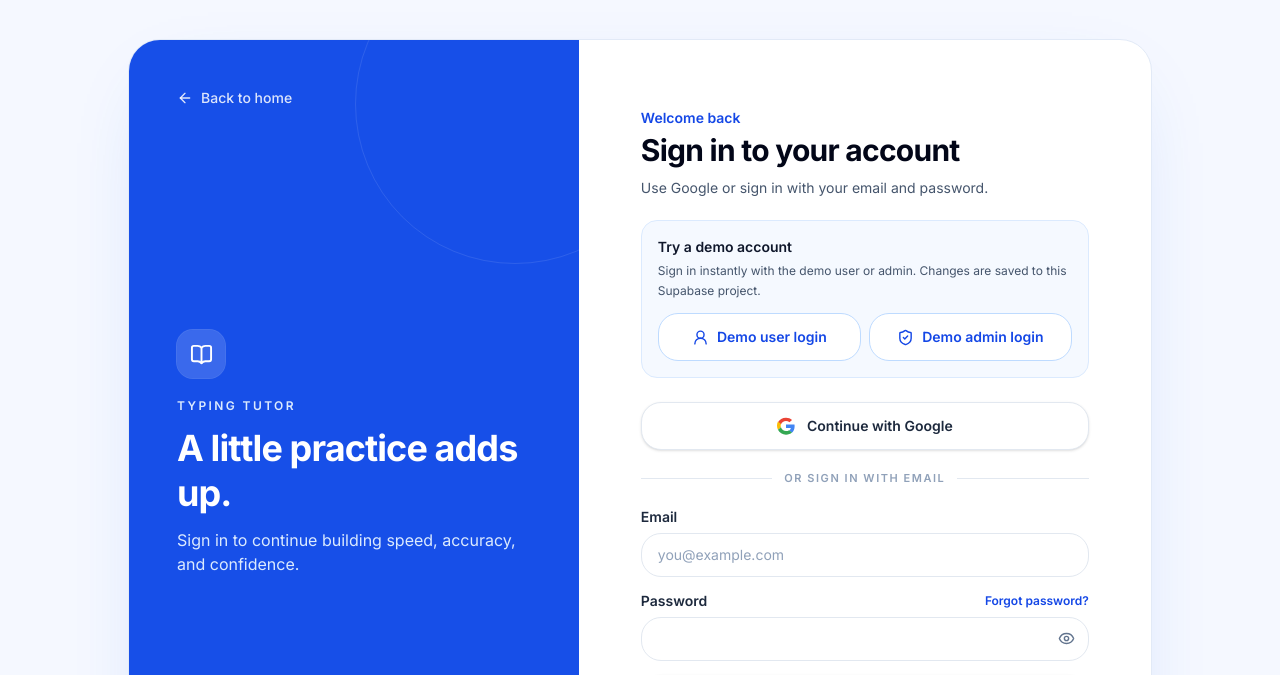
it: Real Supabase demo login › recovers Google and password-reset controls after thrown fetch failures
Step 1. Click the button "Continue with Google" → coordinates (865, 426), box [641,402,1089,450]
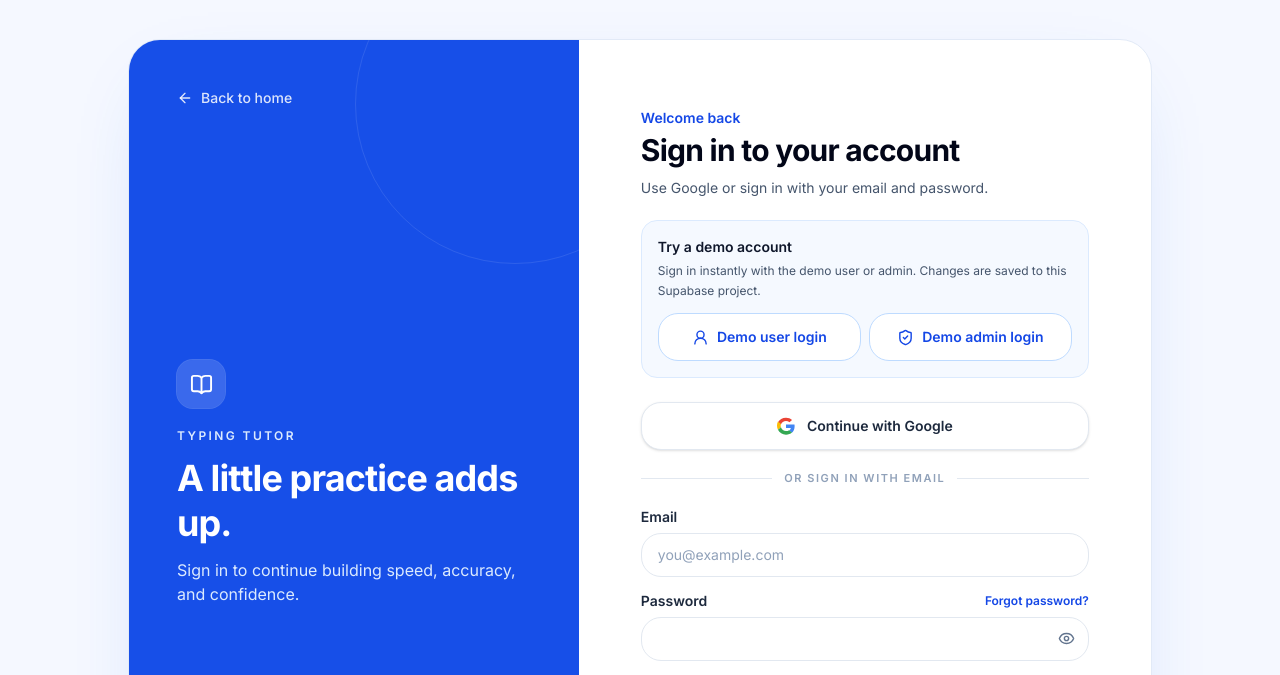
Step 2. Click the button "Demo user login" → coordinates (759, 337), box [658,313,861,361]
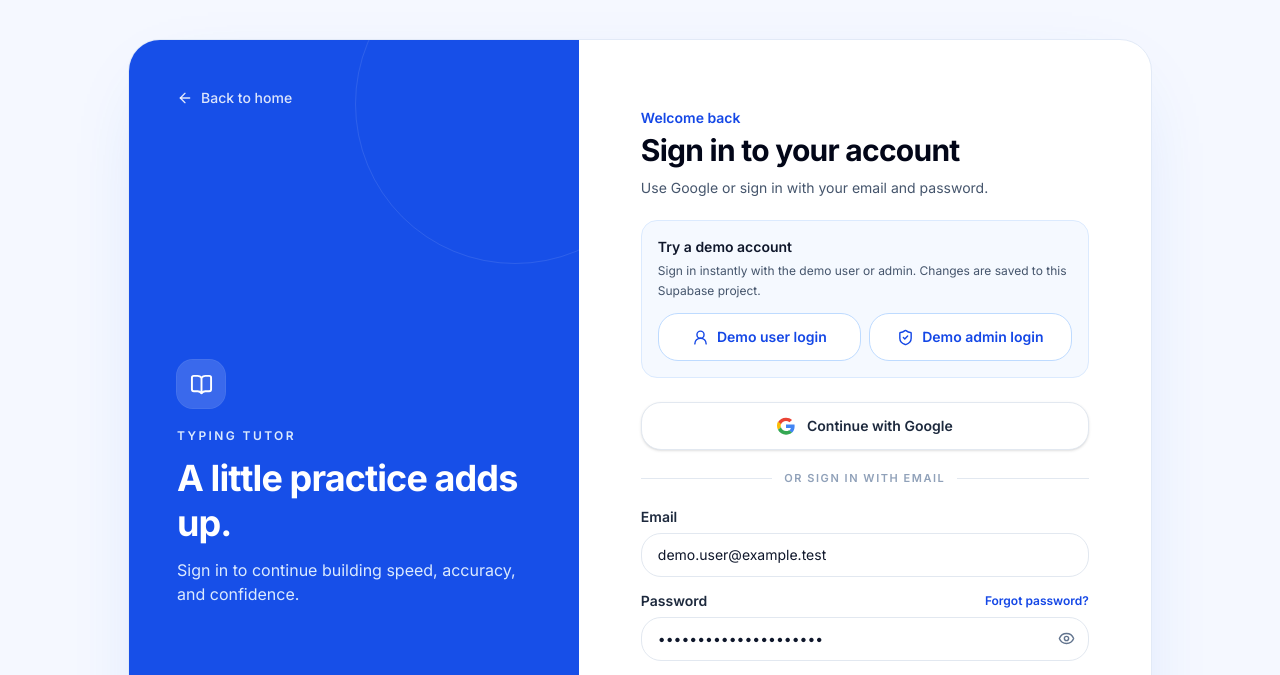
Step 3. Click the button "Forgot password?" → coordinates (1037, 600), box [985,592,1089,608]
(page scrolled)
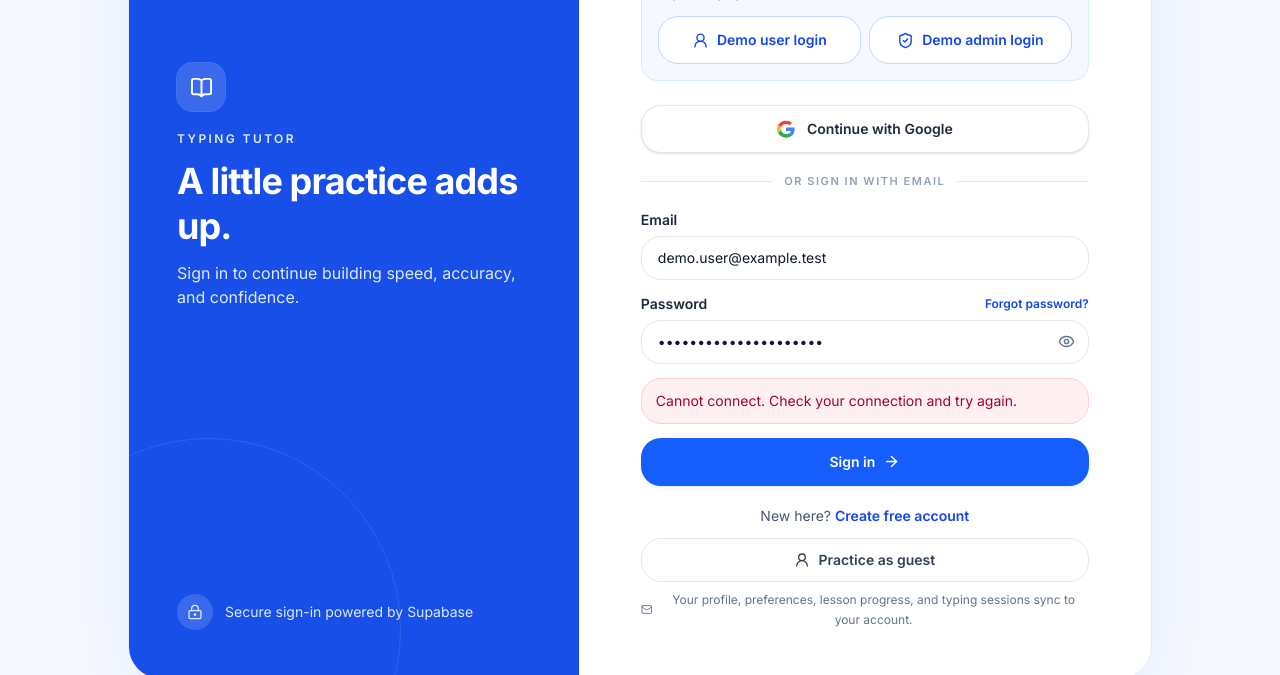
Expected: the button "Forgot password?" is enabled, [985,296,1089,312]
Expected: the message "Cannot connect. Check your connection and try again." is shown, [641,378,1089,424]
